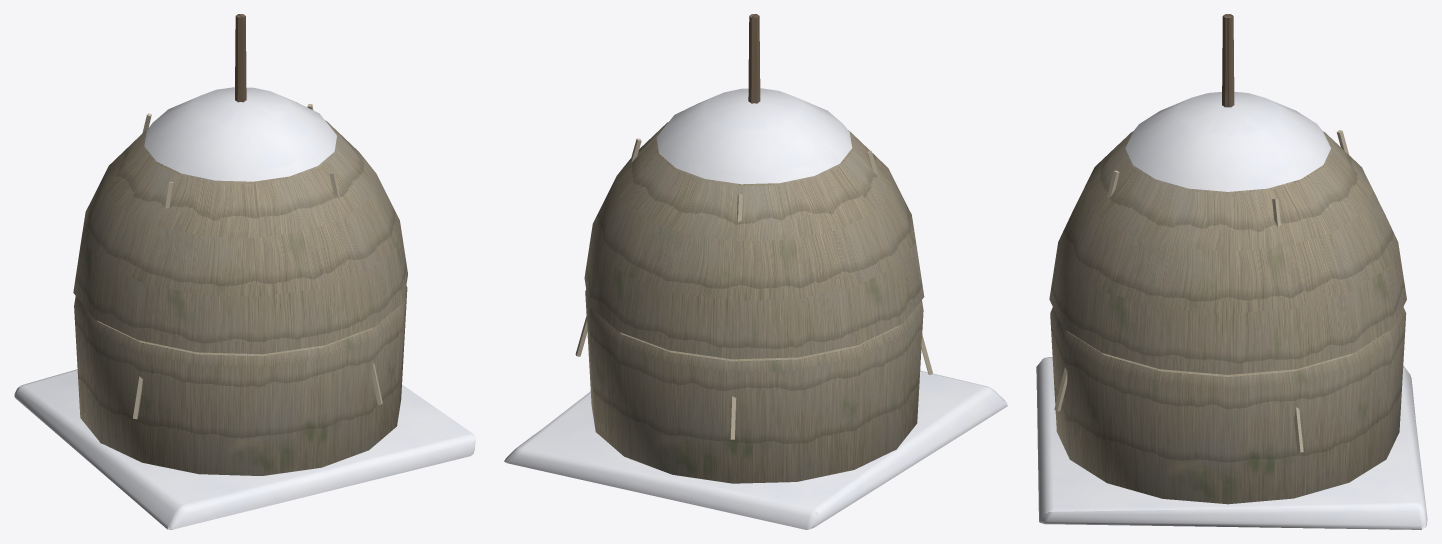
File: farm_haystack_small.glb
3 renders of one model, left to right at view 1: azimuth 30°, elevation 25°; view 2: azimuth 150°, elevation 25°; view 3: azimuth 270°, elevation 25°, orthographic. The views are drawn at different scales.
Parts seen in each view (by area): view 1: farm_haystack_small; view 2: farm_haystack_small; view 3: farm_haystack_small.
Part boxes in pixels (x1,y1,x2,y2): farm_haystack_small: (14, 14, 475, 529); farm_haystack_small: (504, 14, 1007, 529); farm_haystack_small: (1036, 14, 1427, 529).
Size of what is drawn, in the model's own units: 2.5 by 3.1 by 2.53.
Materials: 4 (4 with a texture image).
